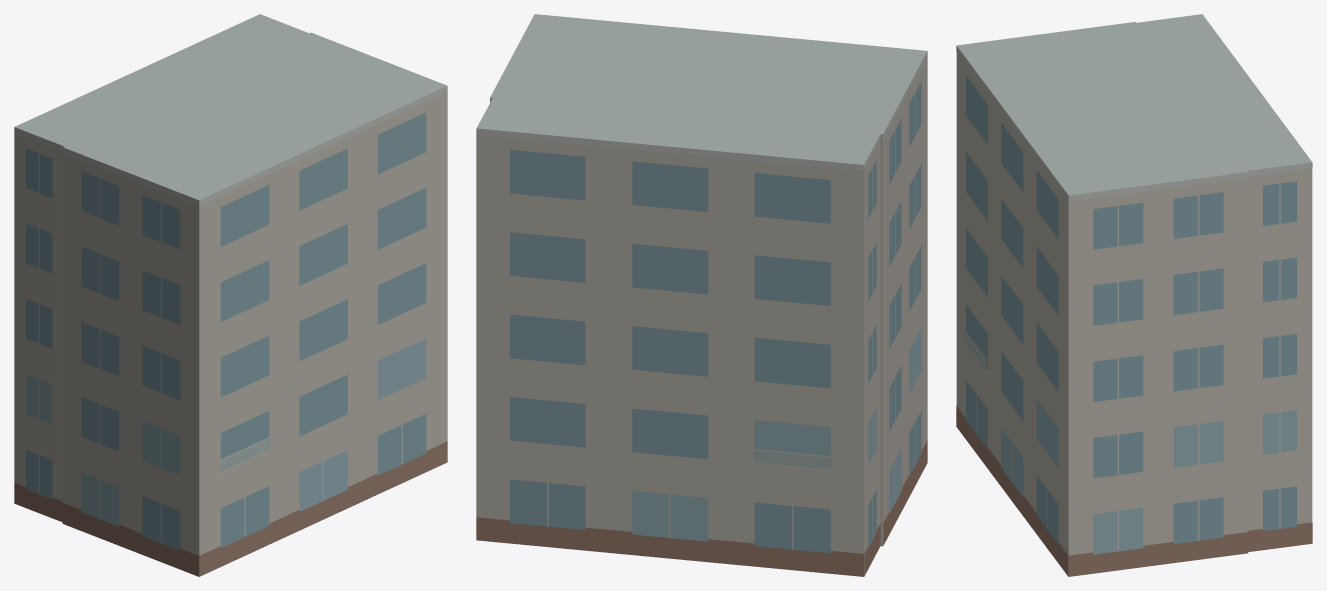
File: survey-upis-33015699.glb
3 views of the same model, side by side, from view 1: azimuth 30°, elevation 25°; view 2: azimuth 150°, elevation 25°; view 3: azimuth 270°, elevation 25° (orthographic). The views are drawn at different scales.
Visible parts, largest first — view 1: survey-upis-33015699.tmp; view 2: survey-upis-33015699.tmp; view 3: survey-upis-33015699.tmp.
Part boxes in pixels (x1,y1,x2,y2): survey-upis-33015699.tmp: (14,14,447,576); survey-upis-33015699.tmp: (476,14,927,576); survey-upis-33015699.tmp: (956,14,1312,576).
Size of the model in its own units: 15.58 by 15.25 by 12.91.
